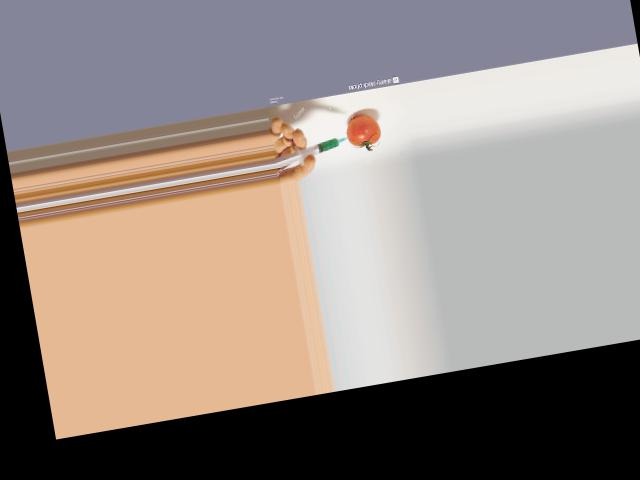tomato: (343, 112, 381, 147)
